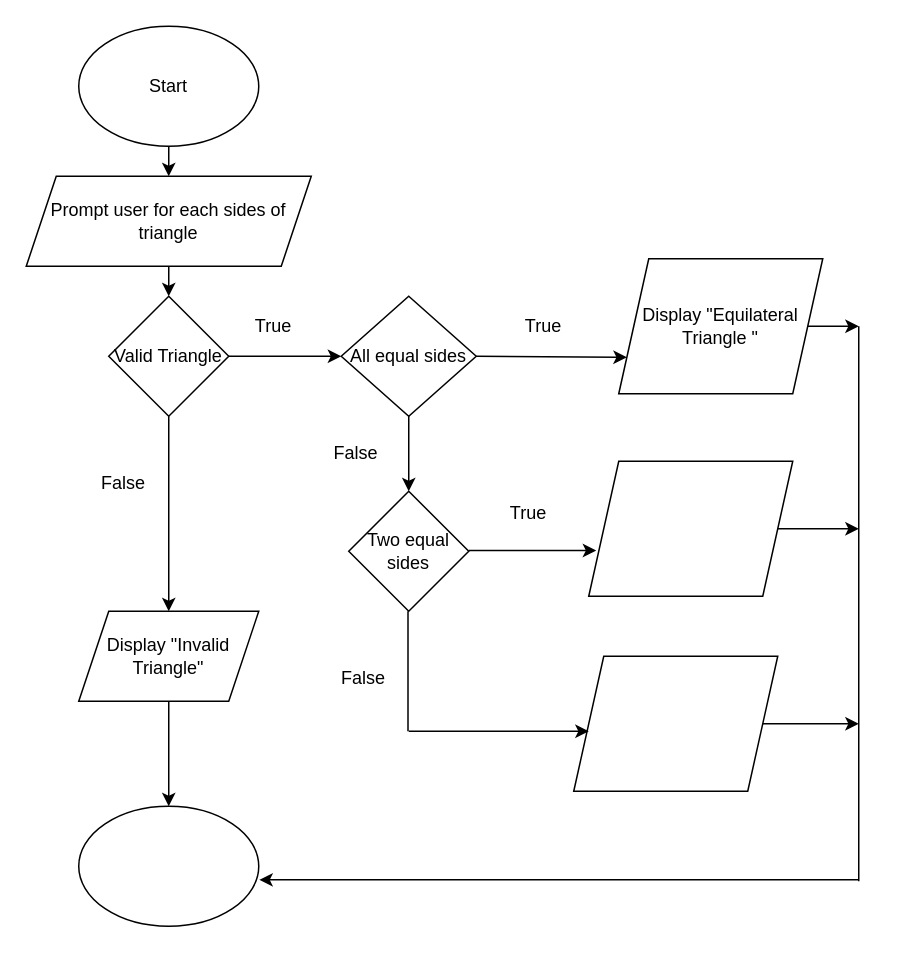
Some shapes in this 897 by 953 pixel diagram are drawn without their labels. The shapes that lost their labels are listed below. From the top down, each one's centre as x and y in pixels, then its label:
(690,528): Display "Isosceles Triangle "
(675,723): Display "Scalene Triangle "
(168,865): End
